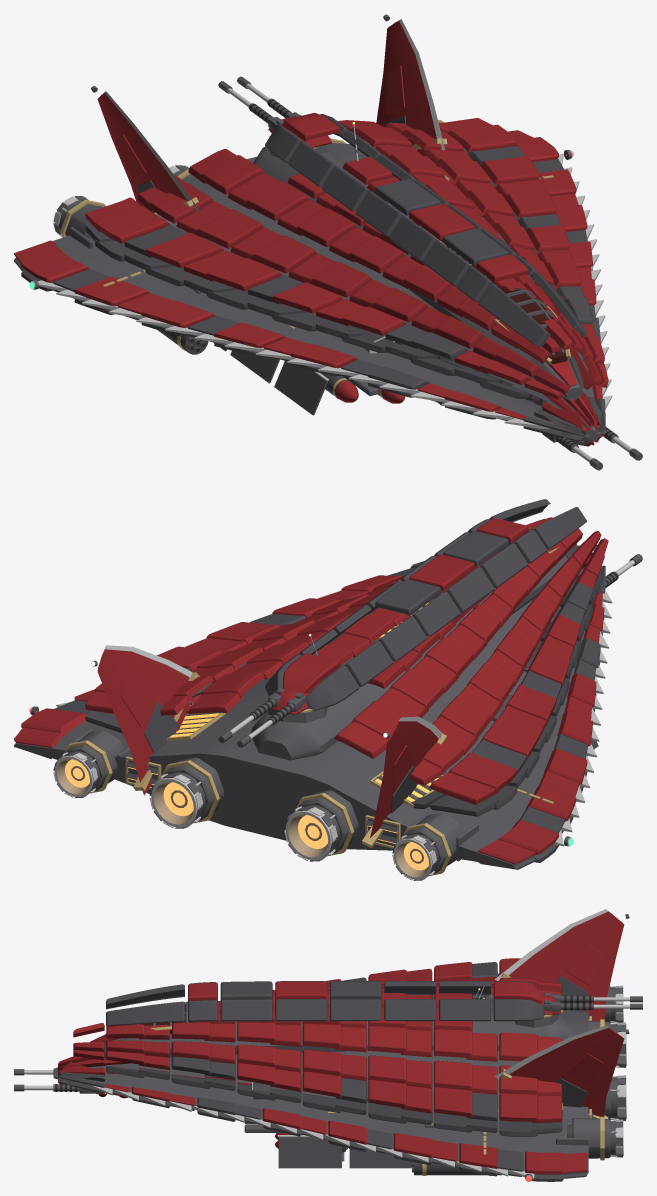
File: enemy_fighter_b.glb
3 views of the same model, one above another, from view 1: azimuth 30°, elevation 25°; view 2: azimuth 150°, elevation 25°; view 3: azimuth 270°, elevation 25° (orthographic). The views are drawn at different scales.
Visible parts, largest first — view 1: enemy_fighter_b; view 2: enemy_fighter_b; view 3: enemy_fighter_b.
Part boxes in pixels (x1,y1,x2,y2): enemy_fighter_b: (14, 14, 642, 470); enemy_fighter_b: (14, 499, 642, 880); enemy_fighter_b: (14, 909, 642, 1181).
Size of the model in its own units: 9.3 by 3.26 by 11.52.
